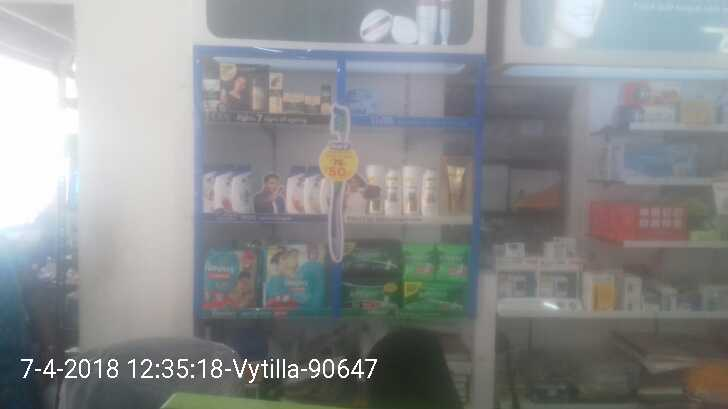venus: (347, 88, 373, 114)
